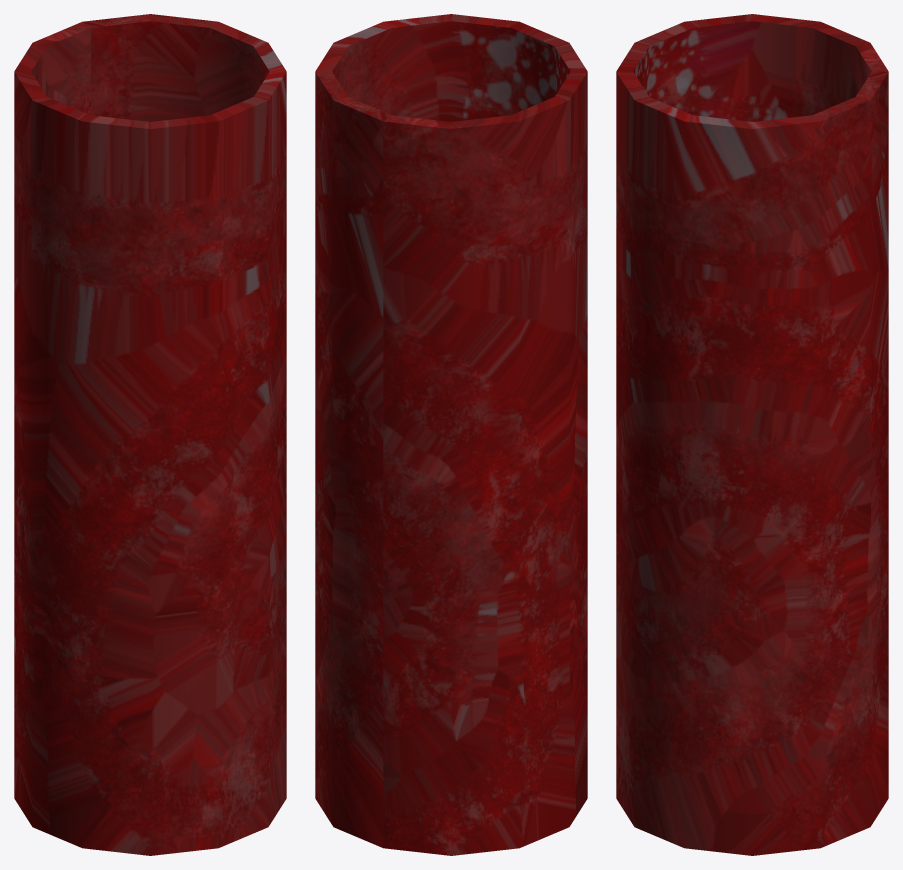
File: SM_Aeropress_CylinderBase.fbx
3 views of the same model, side by side, from view 1: azimuth 30°, elevation 25°; view 2: azimuth 150°, elevation 25°; view 3: azimuth 270°, elevation 25° (orthographic).
Parts seen in each view (by area): view 1: SM_Aeropress_CylinderBase; view 2: SM_Aeropress_CylinderBase; view 3: SM_Aeropress_CylinderBase.
Boxes of the visible parts, x1,y1,x2,y2 form: SM_Aeropress_CylinderBase: (14,14,286,855); SM_Aeropress_CylinderBase: (315,14,587,855); SM_Aeropress_CylinderBase: (616,14,888,855).
Size of the model in its own units: 200 by 589 by 200.
